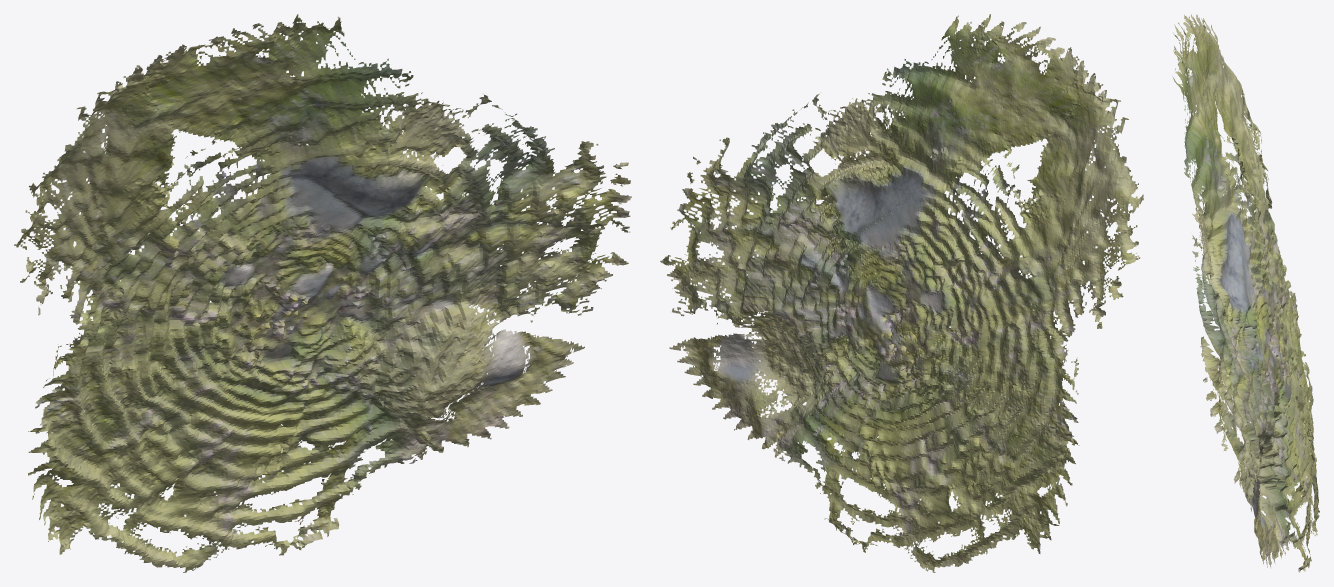
File: terrain.glb
3 views of the same model, side by side, from view 1: azimuth 30°, elevation 25°; view 2: azimuth 150°, elevation 25°; view 3: azimuth 270°, elevation 25° (orthographic). The views are drawn at different scales.
Parts seen in each view (by area): view 1: Terrain; view 2: Terrain; view 3: Terrain.
Part boxes in pixels (x1=…): Terrain: x1=14, y1=14, x2=631, y2=572; Terrain: x1=660, y1=14, x2=1143, y2=572; Terrain: x1=1172, y1=14, x2=1319, y2=572.
Bounding box in the file's own units: 25.25 × 24.81 × 6.75.
